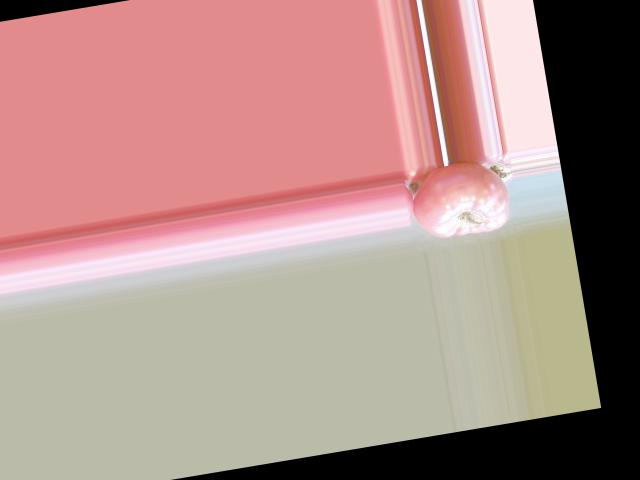tomato: (405, 156, 513, 243)
